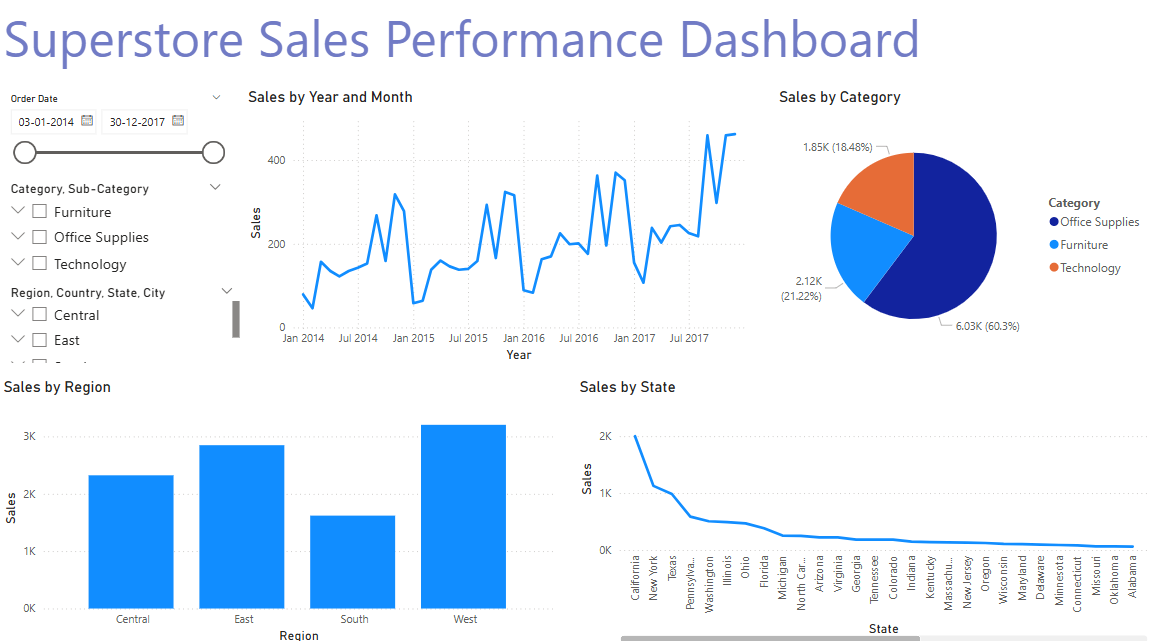

Layout of this report page (visuals, bound fields, positions):
{"tool":"powerbi","page":{"name":"Dashboard","canvas":[1280,720],"ordinal":0},"visuals":[{"type":"lineChart","fields":{"Y":["CountNonNull(Orders.Sales)"],"Category":["Orders.Order Date.Variation.Date Hierarchy.Year","Orders.Order Date.Variation.Date Hierarchy.Month"]},"box":[272,100.4,573.2,309.3],"z":0},{"type":"clusteredColumnChart","fields":{"Category":["Orders.Region"],"Y":["CountNonNull(Orders.Sales)"]},"box":[0,421,621.8,299.6],"z":1000},{"type":"pieChart","fields":{"Y":["CountNonNull(Orders.Sales)"],"Category":["Orders.Category"]},"box":[861.4,100.4,419.4,309.3],"z":2000},{"type":"lineChart","fields":{"Y":["CountNonNull(Orders.Sales)"],"Category":["Orders.State"]},"box":[639.6,421,641.2,299.6],"z":3000},{"type":"slicer","fields":{"Values":["Orders.Order Date"]},"box":[0,100.4,259.1,97.2],"z":4000},{"type":"slicer","fields":{"Values":["Orders.Category","Orders.Sub-Category"]},"box":[0,197.5,259.1,115],"z":5000},{"type":"slicer","fields":{"Values":["Orders.Region","Orders.Country","Orders.State","Orders.City"]},"box":[0,312.5,272,97.2],"z":6000},{"type":"textbox","box":[0,0,1280.8,100.4],"z":7000}]}

Visuals, with their boxes in screenshot pixels (x1, y1, x2, y2), scaled from the page's 1280x720 canvas onto the 1151x641 screenshot:
lineChart - CountNonNull(Orders.Sales) x Orders.Order Date.Variation.Date Hierarchy.Year: pyautogui.locateOnScreen(245, 89, 760, 365)
clusteredColumnChart - Orders.Region x CountNonNull(Orders.Sales): pyautogui.locateOnScreen(0, 375, 559, 640)
pieChart - CountNonNull(Orders.Sales) x Orders.Category: pyautogui.locateOnScreen(775, 89, 1150, 365)
lineChart - CountNonNull(Orders.Sales) x Orders.State: pyautogui.locateOnScreen(575, 375, 1150, 640)
slicer - Orders.Order Date: pyautogui.locateOnScreen(0, 89, 233, 176)
slicer - Orders.Category x Orders.Sub-Category: pyautogui.locateOnScreen(0, 176, 233, 278)
slicer - Orders.Region x Orders.Country: pyautogui.locateOnScreen(0, 278, 245, 365)
textbox: pyautogui.locateOnScreen(0, 0, 1150, 89)
